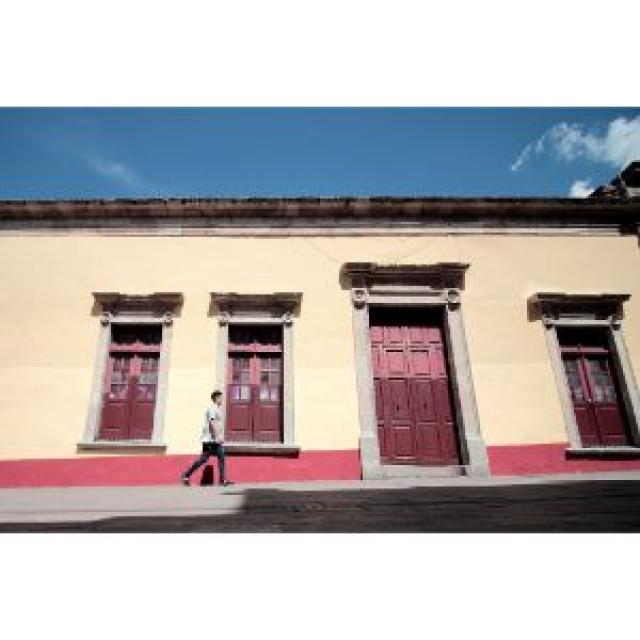nonfall: (181, 387, 239, 493)
